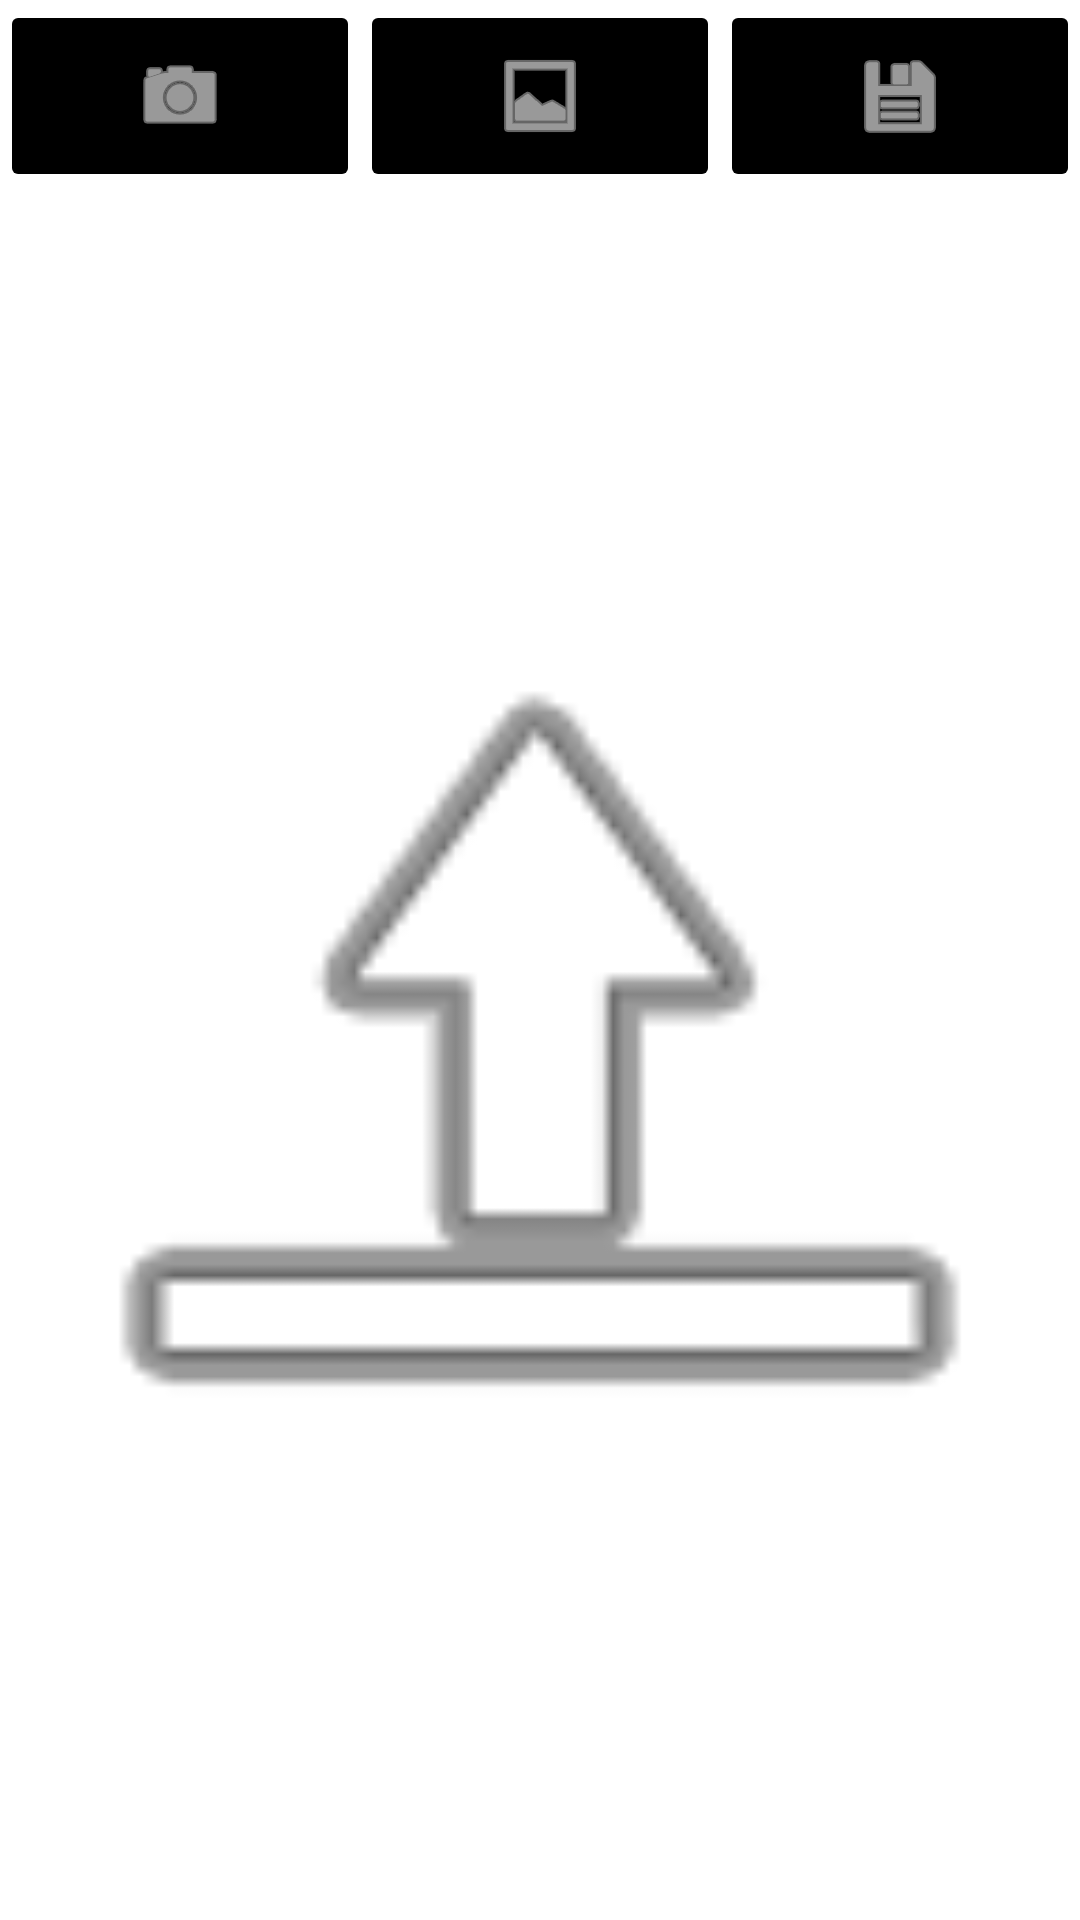

Icon bounding boxes for this 1080 x 1920 phone screenshot, format {"x1": x1, "y1": y1, "x2": x2, "y2": y2}:
camera: {"x1": 12, "y1": 18, "x2": 348, "y2": 174}
gallery: {"x1": 372, "y1": 18, "x2": 708, "y2": 174}
save: {"x1": 732, "y1": 18, "x2": 1068, "y2": 174}
